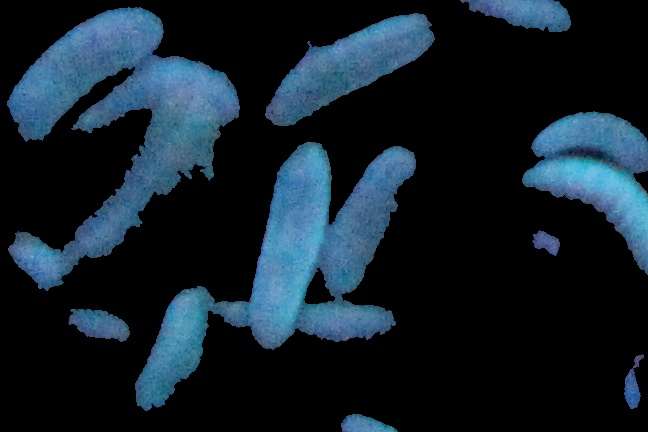larvae: (72, 105, 221, 257), (10, 7, 145, 139), (277, 12, 420, 133), (320, 145, 414, 295), (526, 158, 648, 268), (254, 149, 320, 333), (91, 59, 238, 130), (142, 289, 210, 402), (530, 102, 648, 166), (454, 1, 568, 37), (294, 302, 389, 342)
